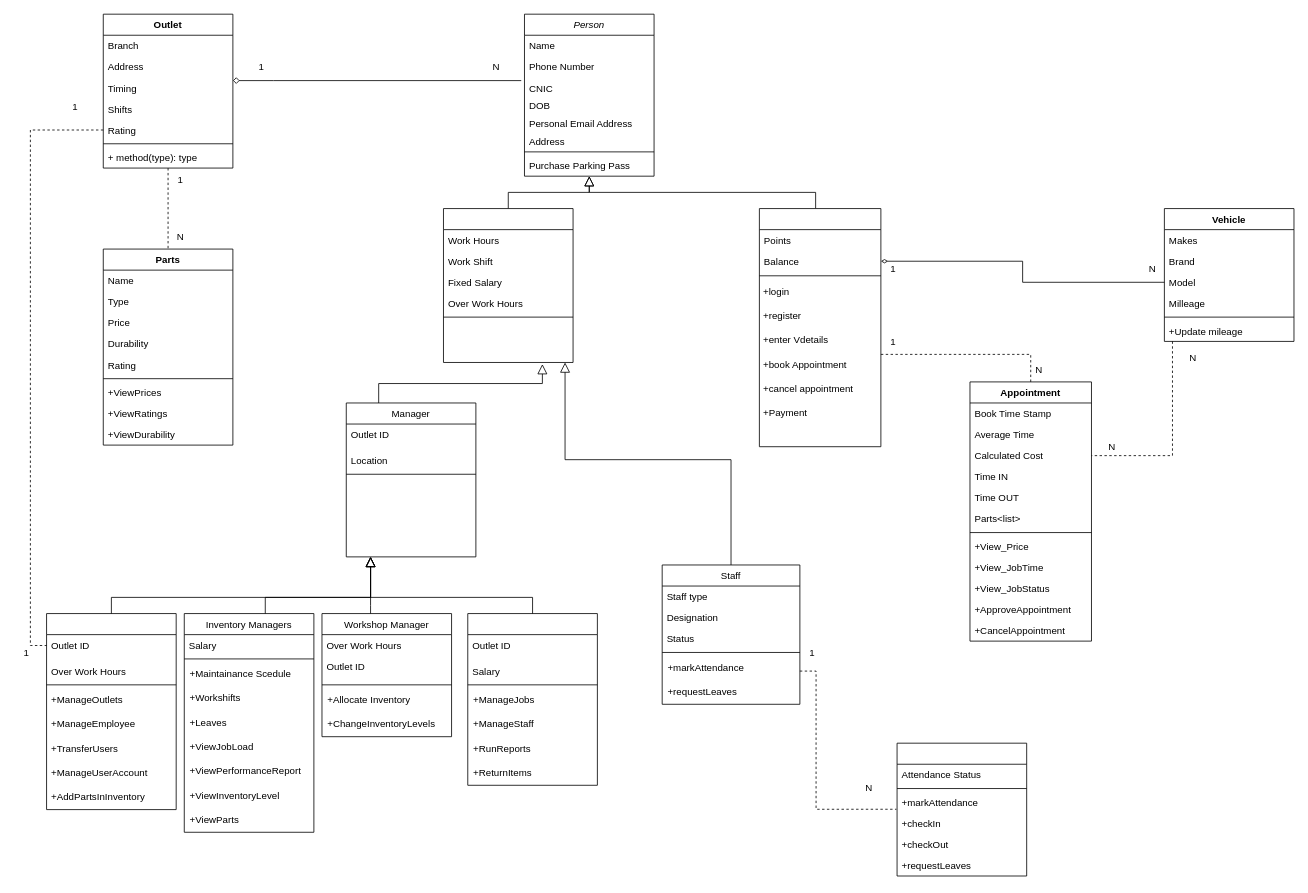
The diagram is 1308 pixels wide and 893 high, and some of its shapes have lost their labels. The shapes that lost their labels are listed below. From the top down, each one's box as (x1, y1, x2, y2) in pixels, then its label:
(443, 208, 573, 362): Employee
(759, 208, 881, 447): Customer
(46, 613, 176, 810): Outlet Admin
(467, 613, 597, 785): Floor Managers
(896, 742, 1027, 876): Staff Attendace
